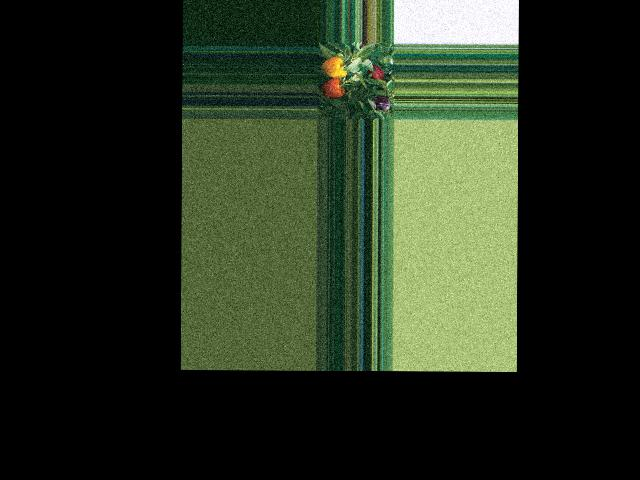bell_pepper: (322, 56, 347, 83)
